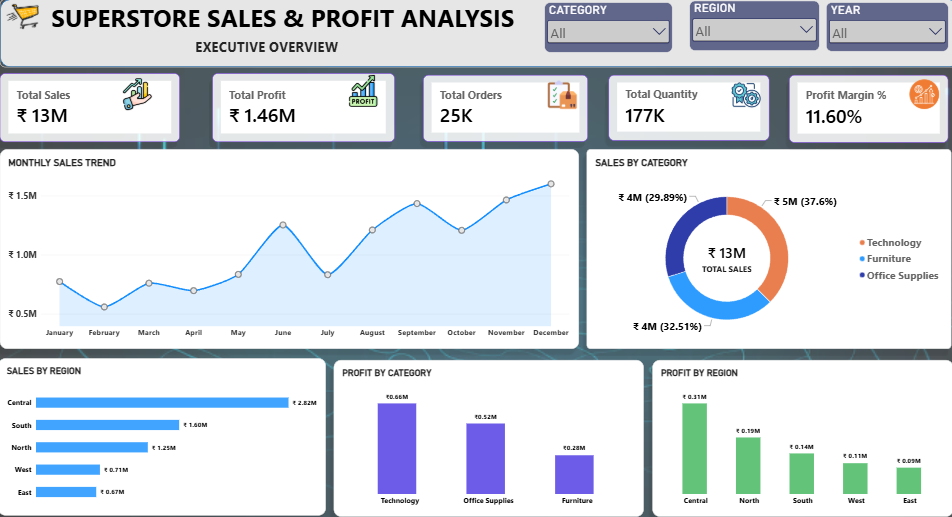

What the dashboard file says about the page in this screenshot:
{"tool":"powerbi","page":{"name":"Page 1","canvas":[1920,1080],"ordinal":0},"visuals":[{"type":"donutChart","title":"SALES BY CATEGORY ","fields":{"Category":["superstore.Category"],"Y":["Sum(superstore.Sales)"]},"box":[1181.5,319.7,721.4,395.3],"z":0},{"type":"clusteredColumnChart","title":"PROFIT BY CATEGORY","fields":{"Category":["superstore.Category"],"Y":["Sum(superstore.Profit)"]},"box":[680,735,612.5,310],"z":1000},{"type":"barChart","title":"SALES BY REGION","fields":{"Category":["superstore.Region"],"Y":["Sum(superstore.Sales)"]},"box":[15.1,734.4,648,311],"z":2000},{"type":"cardVisual","fields":{"Data":["superstore.Total Sales"]},"box":[19.4,168.5,356.4,136.1],"z":3000},{"type":"cardVisual","fields":{"Data":["superstore.Total Profit"]},"box":[440.6,168.5,360.7,136.1],"z":4000},{"type":"cardVisual","fields":{"Data":["superstore.Total Orders"]},"box":[855.4,172.8,326.2,131.8],"z":5000},{"type":"cardVisual","fields":{"Data":["superstore.Total Quantity"]},"box":[1224.7,172.8,317.5,129.6],"z":6000},{"type":"cardVisual","fields":{"Data":["superstore.Profit Margin %"]},"box":[1581.1,172.8,315.4,133.9],"z":7000},{"type":"clusteredColumnChart","title":"PROFIT BY REGION","fields":{"Category":["superstore.Region"],"Y":["superstore.Total Profit"]},"box":[1310,735,595,310],"z":8000},{"type":"lineChart","title":"MONTHLY SALES TREND","fields":{"Category":["superstore.Ship_Date.Variation.Date Hierarchy.Month"],"Y":["Sum(superstore.Sales)"]},"box":[20,320,1145,395],"z":10000},{"type":"shape","box":[20,22.5,1897.5,135],"z":11000},{"type":"textbox","box":[64.8,28.1,1032.5,71.3],"z":12000},{"type":"textbox","box":[19.4,99.4,1056.2,58.3],"z":13000},{"type":"slicer","fields":{"Values":["superstore.Ship_Date.Variation.Date Hierarchy.Year"]},"box":[1654.6,30.2,241.9,97.2],"z":14000},{"type":"slicer","fields":{"Values":["superstore.Region"]},"box":[1382.4,28.1,257,99.4],"z":15000},{"type":"slicer","fields":{"Values":["superstore.Category"]},"box":[1097.3,30.2,252.7,99.4],"z":16000},{"type":"image","box":[244.1,179.3,97.7,62.8],"z":17000},{"type":"image","box":[689,175,97.7,62.8],"z":18000},{"type":"image","box":[1084.3,183.6,97.2,58.3],"z":19000},{"type":"image","box":[1445,181.4,97.7,62.8],"z":20000},{"type":"image","box":[1801.4,181.4,95,62.6],"z":21000},{"type":"image","box":[15.1,28.1,97.7,62.8],"z":22000}]}

Visuals, with their boxes on the page's 1920x1080 design canvas (x1, y1, x2, y2). These are canvas units, not pixel positions in the 952x517 screenshot, which may show the page scaled, cropped or inside an application window:
"SALES BY CATEGORY " donutChart: 1182:320:1903:715
"PROFIT BY CATEGORY" clusteredColumnChart: 680:735:1292:1045
"SALES BY REGION" barChart: 15:734:663:1045
cardVisual - superstore.Total Sales: 19:168:376:305
cardVisual - superstore.Total Profit: 441:168:801:305
cardVisual - superstore.Total Orders: 855:173:1182:305
cardVisual - superstore.Total Quantity: 1225:173:1542:302
cardVisual - superstore.Profit Margin %: 1581:173:1896:307
"PROFIT BY REGION" clusteredColumnChart: 1310:735:1905:1045
"MONTHLY SALES TREND" lineChart: 20:320:1165:715
shape: 20:22:1918:158
textbox: 65:28:1097:99
textbox: 19:99:1076:158
slicer - superstore.Ship_Date.Variation.Date Hierarchy.Year: 1655:30:1896:127
slicer - superstore.Region: 1382:28:1639:128
slicer - superstore.Category: 1097:30:1350:130
image: 244:179:342:242
image: 689:175:787:238
image: 1084:184:1182:242
image: 1445:181:1543:244
image: 1801:181:1896:244
image: 15:28:113:91
